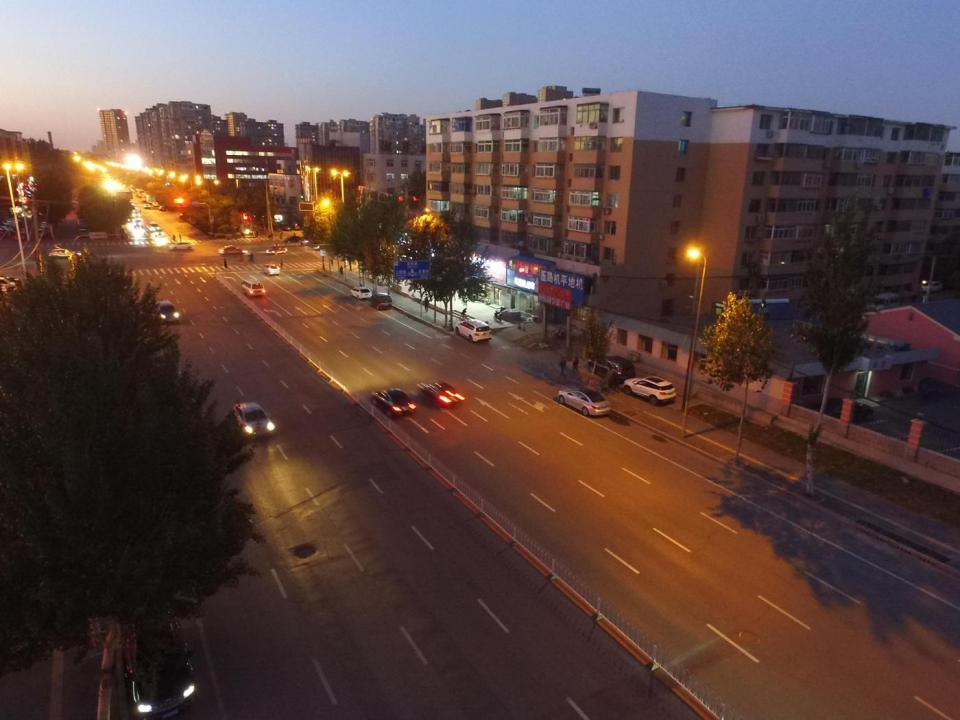bus: (142, 193, 156, 204), (134, 187, 146, 198)
car: (123, 585, 197, 720), (555, 385, 613, 420), (810, 394, 876, 424), (622, 374, 677, 406), (232, 401, 275, 440), (372, 386, 415, 419), (417, 380, 463, 409), (454, 318, 494, 344), (153, 299, 183, 325), (370, 292, 396, 310), (47, 246, 83, 259), (168, 240, 198, 253), (350, 285, 371, 301), (217, 242, 243, 254), (262, 261, 279, 278), (266, 246, 288, 255), (299, 240, 320, 248), (148, 221, 161, 232), (152, 229, 165, 239), (78, 228, 89, 236), (282, 223, 292, 231), (152, 200, 160, 207), (159, 206, 166, 212), (143, 203, 150, 209)
van: (590, 348, 633, 383), (241, 277, 267, 298), (282, 235, 302, 244), (292, 221, 303, 230)
